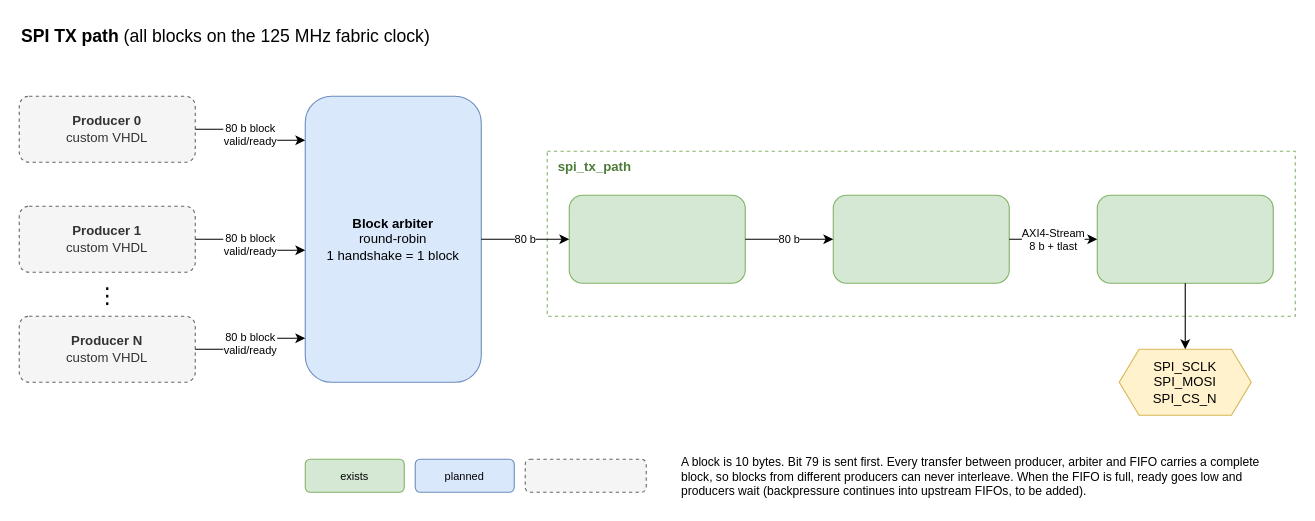
The diagram is 1315 pixels wide and 521 high, and some of its shapes have lost their labels. Here are the shapes that lost their labels. From the top down, the box of each, then its label:
(568, 194, 745, 283): block_fifo CoreFIFO BLOCK_FIFO_CORE synchronous, FWFT 80 bit × 512 blocks
(832, 194, 1009, 283): block_serializer 80 → 8 bit bits 79:72 first tlast on byte 9
(1096, 194, 1273, 283): axis_spi_wo_master 10-byte frames MSB first
(524, 458, 646, 492): not designed yet
